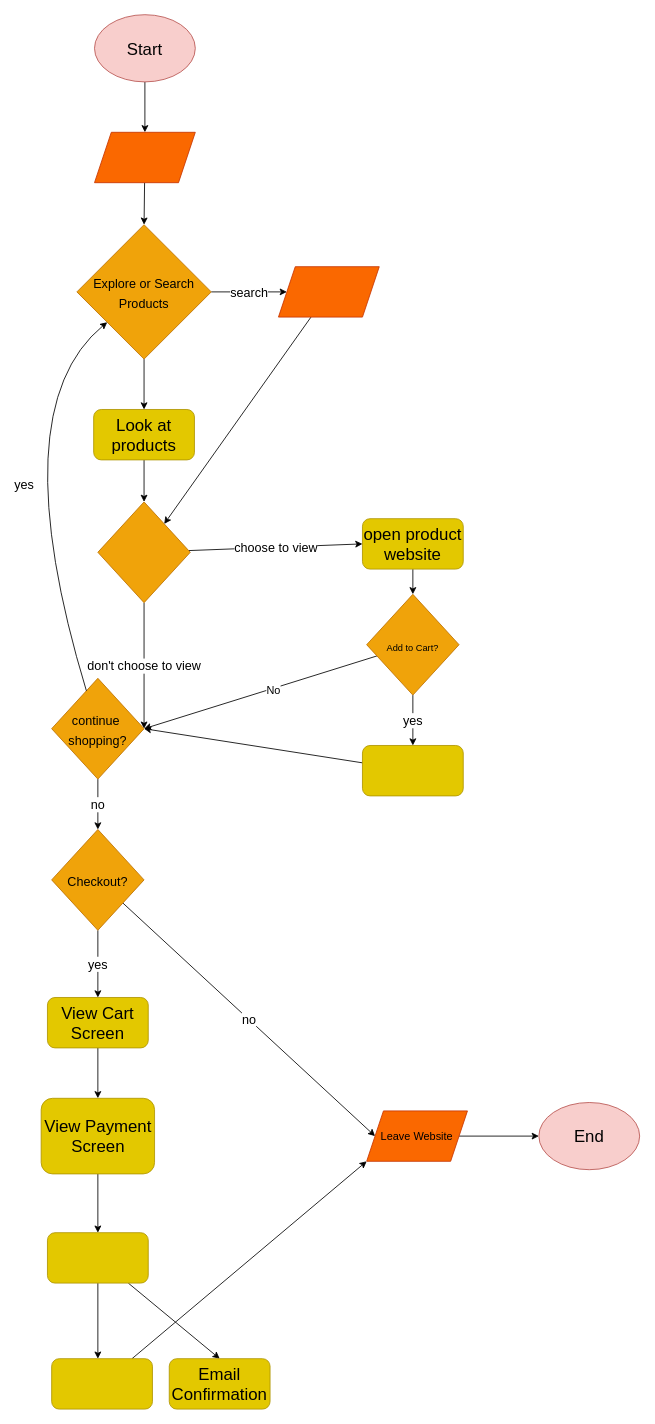
Some shapes in this 655 by 1424 pixel diagram are drawn without their labels. Here are the shapes that lost their labels. From the top down, the centre of each, then its label:
pixel 144 157: User Enters Website
pixel 328 291: Input to website
pixel 143 552: choose or dont choose item
pixel 412 770: Added to cart
pixel 97 1257: Give Payment Info
pixel 101 1383: Order Confirmation
